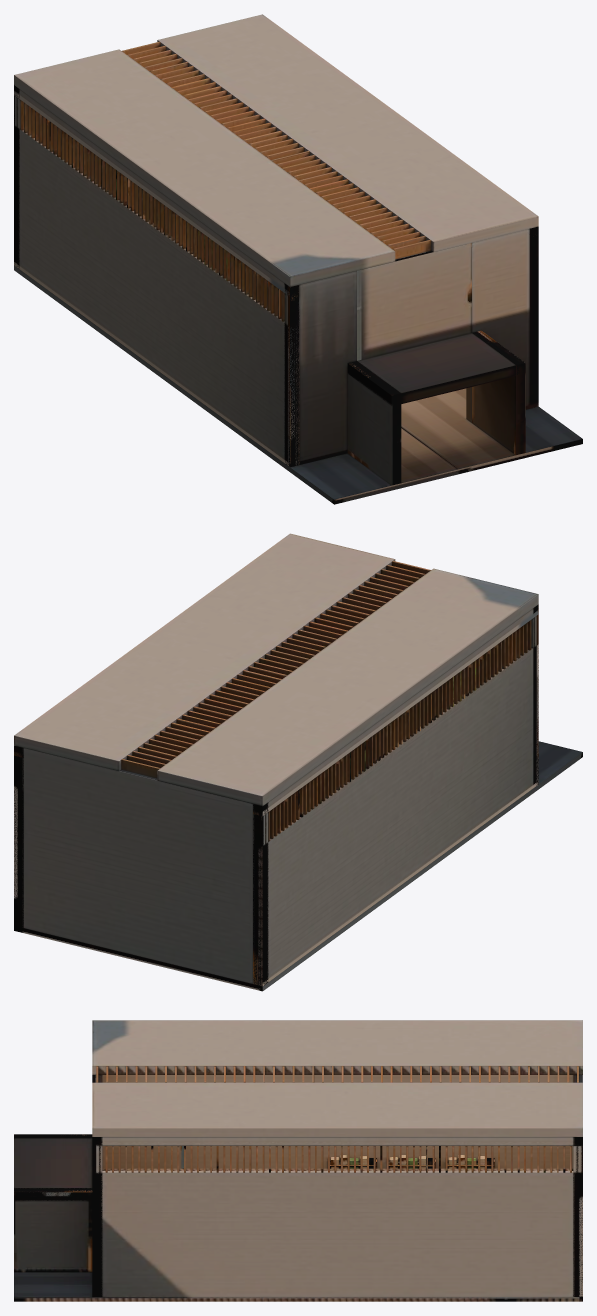
The model's file is flowdesk.glb.
3 renders of one model, top to bottom at view 1: azimuth 30°, elevation 25°; view 2: azimuth 150°, elevation 25°; view 3: azimuth 270°, elevation 25°, orthographic. The views are drawn at different scales.
Visible parts, largest first — view 1: FD_static; view 2: FD_static; view 3: FD_static.
Boxes of the visible parts, bbox=[...] form: FD_static: bbox=[14, 14, 582, 504]; FD_static: bbox=[14, 533, 582, 991]; FD_static: bbox=[14, 1020, 582, 1301].
Size of the model in its own units: 15.6 by 11.7 by 34.8.
Materials: 1 (1 with a texture image).
